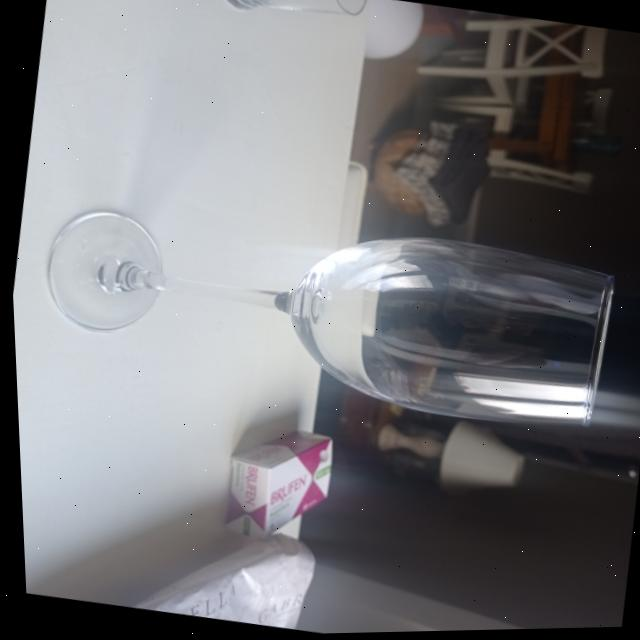Dry: (25, 177, 629, 453)
